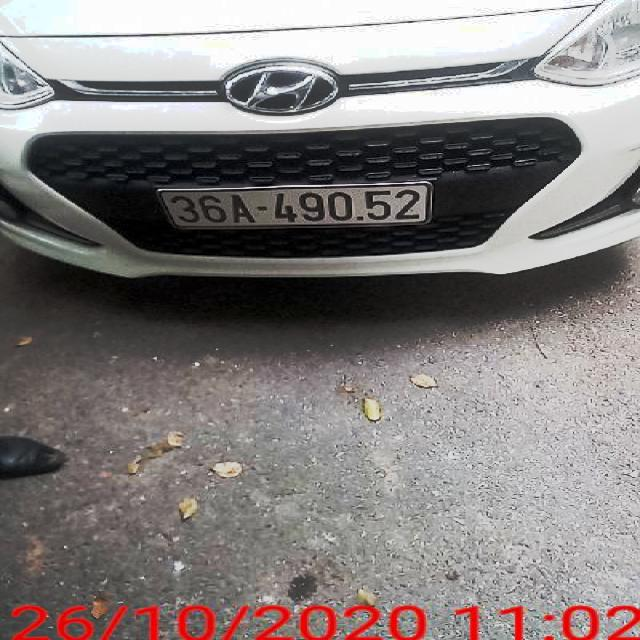license_plate: (161, 183, 430, 228)
